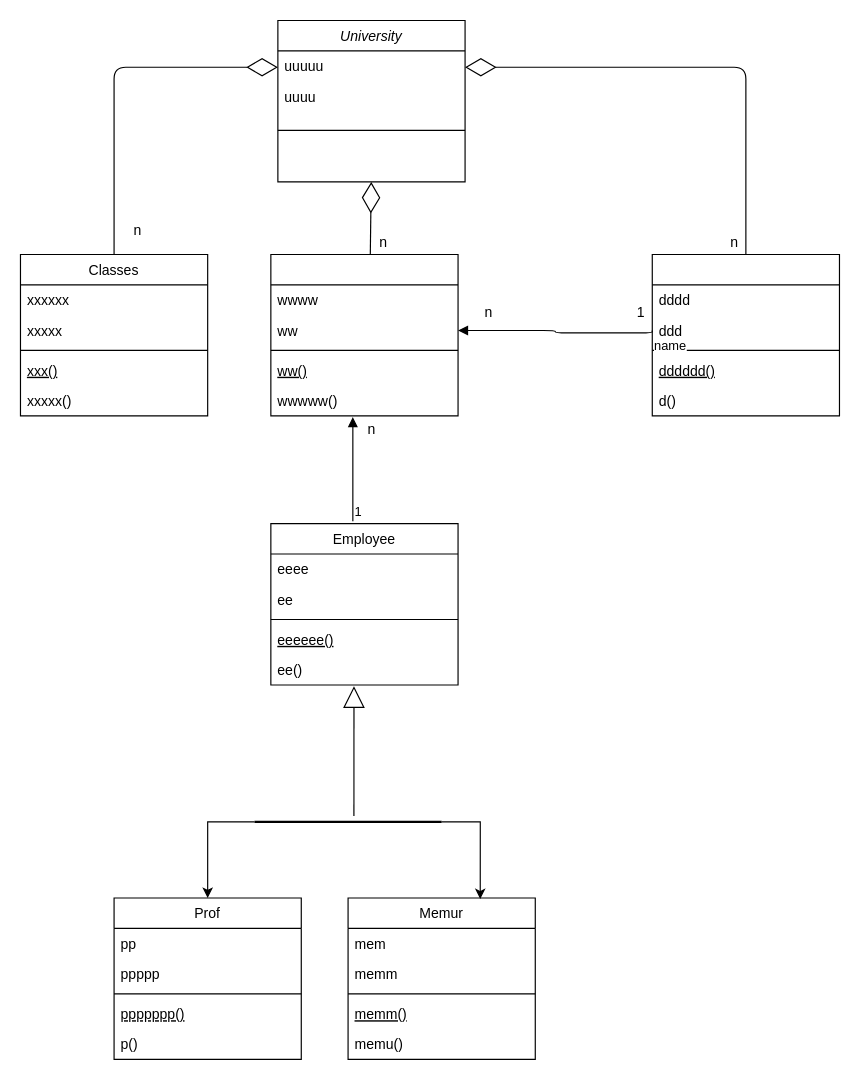
This 860x1083 diagram has some shape labels left out. The box of each missing label's shape, as (x1, y1, x2, y2) in pixels:
Department: (651, 253, 839, 416)
WorkOffice: (270, 253, 458, 416)
